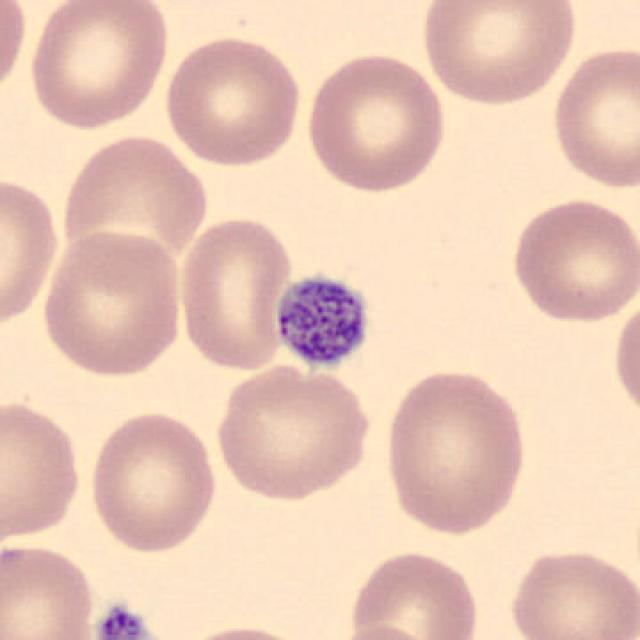Platelets: (270, 268, 375, 376), (90, 601, 163, 640)
RBC: (378, 363, 532, 538), (211, 360, 377, 504), (38, 226, 188, 379), (57, 130, 211, 272), (302, 49, 450, 196), (84, 406, 220, 557), (174, 212, 295, 376), (160, 32, 304, 169), (25, 0, 172, 132), (415, 0, 581, 109), (505, 194, 636, 326), (546, 41, 638, 192), (343, 546, 483, 640), (0, 395, 85, 545), (505, 545, 638, 640), (0, 169, 62, 330), (0, 539, 98, 640), (610, 289, 640, 425), (0, 0, 30, 104), (171, 622, 318, 640), (325, 620, 442, 640)
